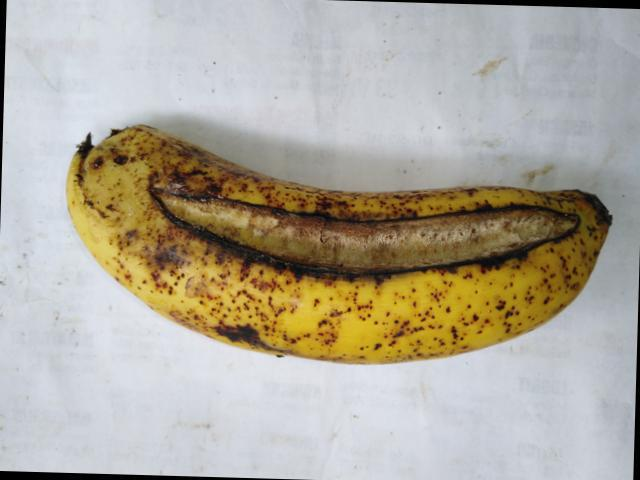rotten: (108, 142, 583, 285)
